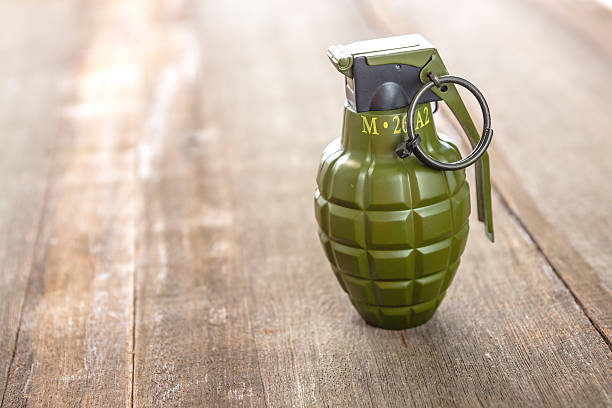e1: (316, 38, 496, 327)
